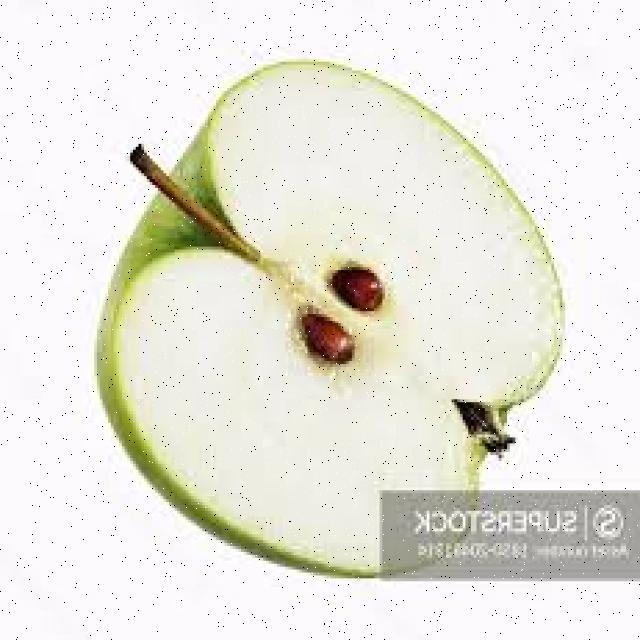Apple: (97, 59, 568, 576)
